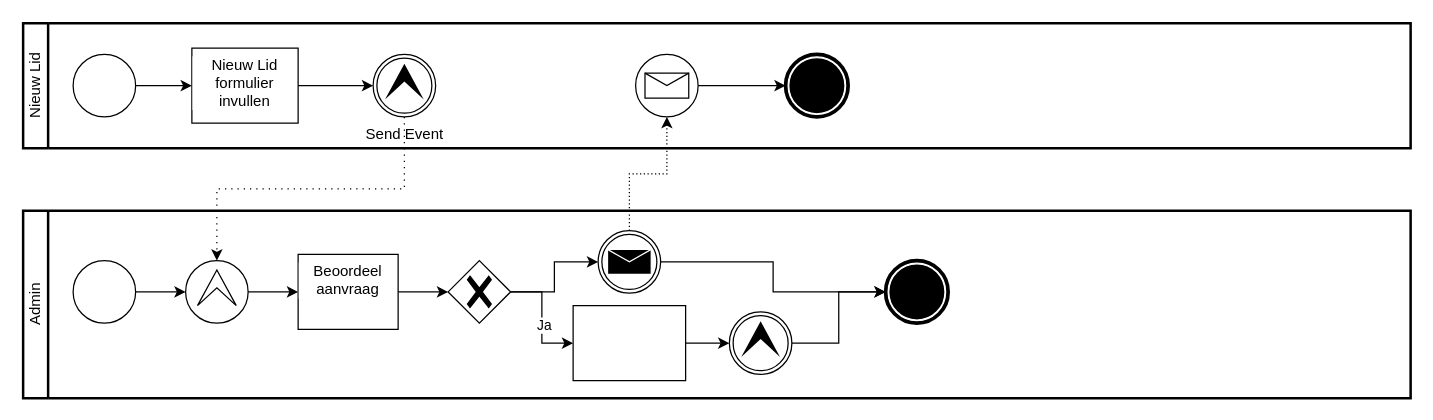
Some shapes in this 1433 by 420 pixel diagram are drawn without their labels. The box of each missing label's shape, as (x1, y1, x2, y2) in pixels:
Goedgekeurd: (447, 259, 511, 323)
Nieuw lid form: (572, 304, 686, 381)
